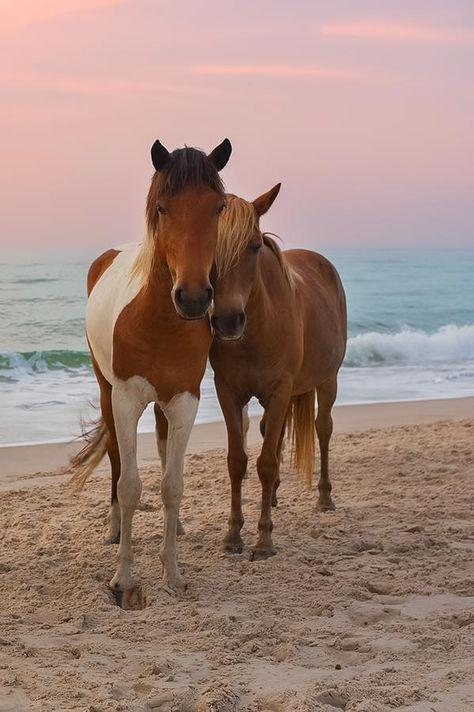horse: (65, 136, 232, 608), (207, 180, 348, 561)
